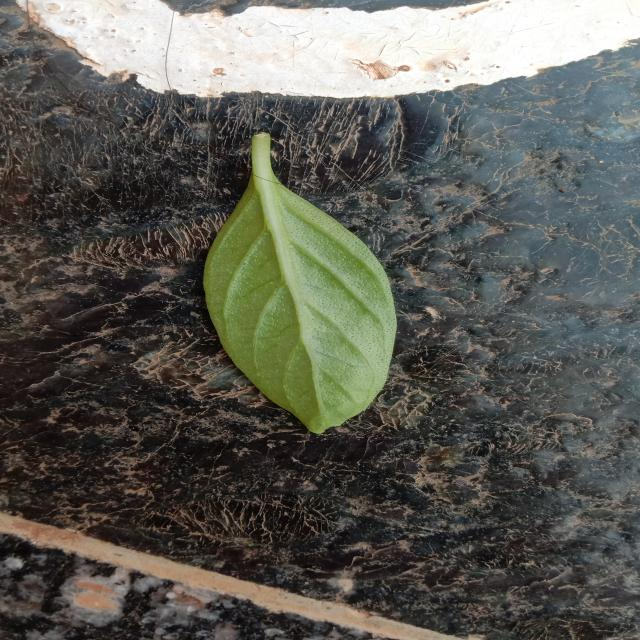kamakasturi: (203, 134, 396, 434)
